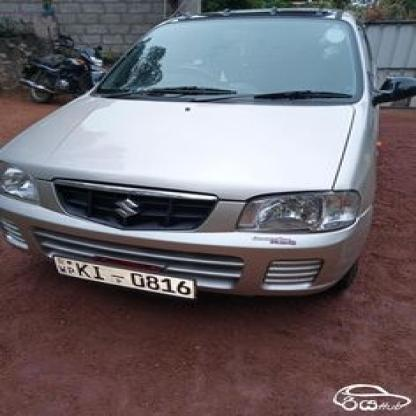car front: (0, 6, 416, 310)
number plate: (53, 257, 198, 297)
